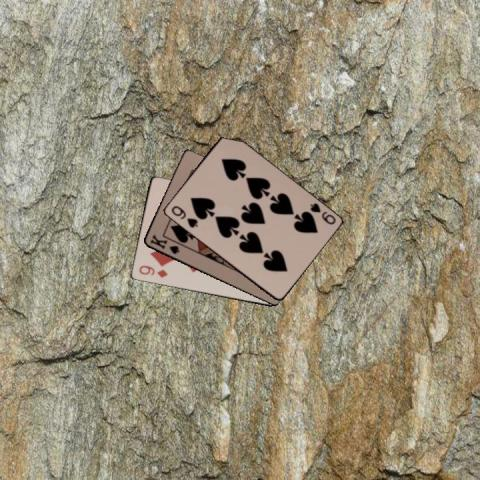9d: (136, 263, 169, 279)
9s: (168, 203, 199, 229), (306, 200, 336, 226)
Ks: (146, 232, 180, 256)
